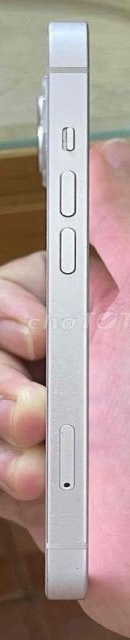scratch: (49, 335, 76, 549)
